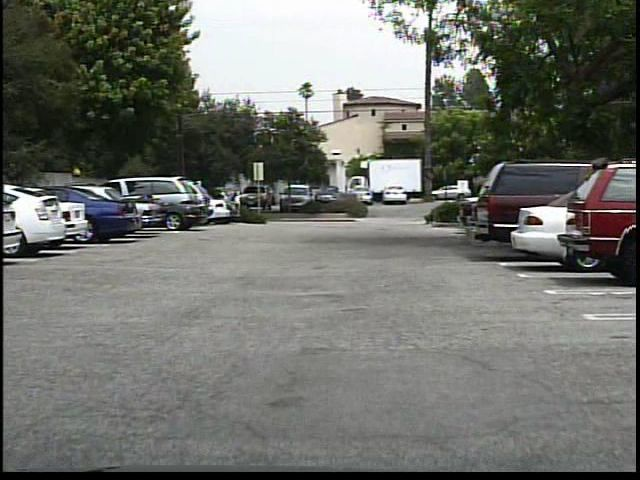person: (216, 188, 233, 219), (230, 192, 243, 221), (226, 190, 238, 219)
